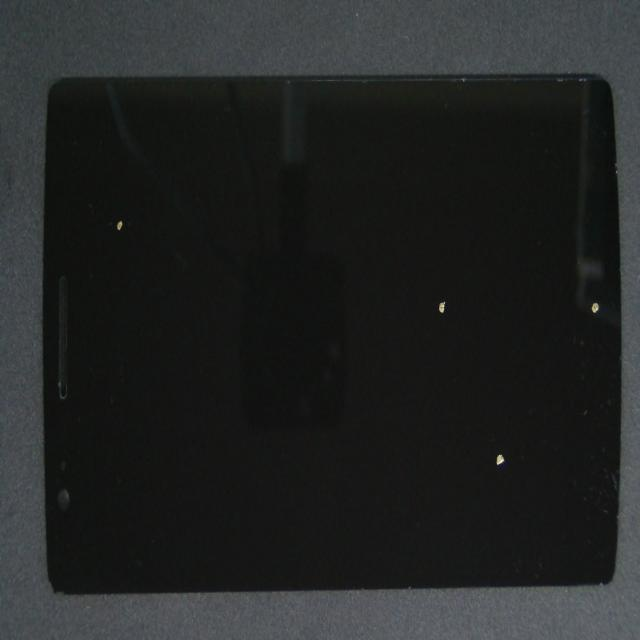stain: (266, 179, 640, 640), (216, 93, 640, 440), (327, 185, 640, 451), (71, 54, 167, 305)
